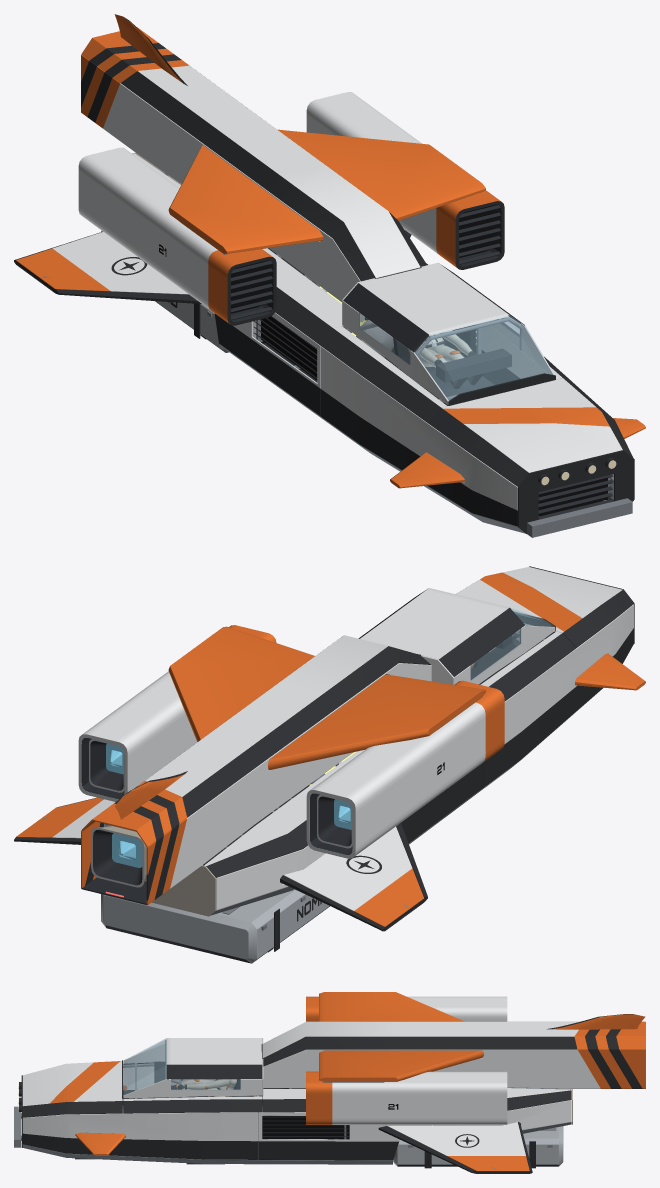
The model's file is nomad.fbx.
3 renders of one model, top to bottom at view 1: azimuth 30°, elevation 25°; view 2: azimuth 150°, elevation 25°; view 3: azimuth 270°, elevation 25°, orthographic. The views are drawn at different scales.
Parts seen in each view (by area): view 1: Boom_Top, Cabin_Top, Pod_Shroud_L, Nose_Top, Side_Front_L, Boom_Side_L, Pod_Arm_R, Pod_Arm_L, Pod_Shroud_R, Stabilizer_Top_L, Radiators, Side_Mid_L (+18 smaller); view 2: Boom_Top, Pod_Shroud_L, Boom_Side_L, Pod_Arm_L, Cargo_Module, Pod_Arm_R, Cabin_Top, Side_Front_L, Pod_Shroud_R, Nose_Top, Stabilizer_Top_L, Deck_Boom_L (+15 smaller); view 3: Boom_Top, Pod_Shroud_R, Side_Front_R, Boom_Side_R, Cabin_Top, Nose_Top, Stabilizer_Top_R, Pod_Arm_R, Side_Mid_R, Pod_Arm_L, Deck_Cabin_R, Pod_Shroud_L (+16 smaller).
Part boxes in pixels (bbox=[...]): Boom_Top: bbox=[81, 27, 426, 281]; Cabin_Top: bbox=[343, 263, 554, 400]; Pod_Shroud_L: bbox=[78, 147, 276, 325]; Nose_Top: bbox=[427, 378, 633, 486]; Side_Front_L: bbox=[321, 346, 517, 526]; Boom_Side_L: bbox=[81, 54, 364, 318]; Pod_Arm_R: bbox=[277, 129, 485, 220]; Pod_Arm_L: bbox=[168, 145, 323, 253]; Pod_Shroud_R: bbox=[306, 92, 504, 269]; Stabilizer_Top_L: bbox=[16, 232, 188, 294]; Radiators: bbox=[254, 316, 612, 519]; Side_Mid_L: bbox=[214, 312, 320, 416]; Boom_Top: bbox=[81, 635, 430, 846]; Pod_Shroud_L: bbox=[306, 680, 504, 858]; Boom_Side_L: bbox=[146, 663, 431, 904]; Pod_Arm_L: bbox=[268, 674, 485, 770]; Cargo_Module: bbox=[101, 811, 329, 963]; Pod_Arm_R: bbox=[168, 626, 314, 741]; Cabin_Top: bbox=[358, 588, 554, 676]; Side_Front_L: bbox=[482, 604, 633, 787]; Pod_Shroud_R: bbox=[78, 625, 276, 801]; Nose_Top: bbox=[456, 567, 633, 647]; Stabilizer_Top_L: bbox=[283, 826, 424, 926]; Deck_Boom_L: bbox=[204, 750, 364, 877]; Boom_Top: bbox=[262, 1021, 645, 1066]; Pod_Shroud_R: bbox=[306, 1071, 507, 1124]; Side_Front_R: bbox=[22, 1112, 257, 1159]; Boom_Side_R: bbox=[263, 1049, 645, 1088]; Cabin_Top: bbox=[123, 1038, 262, 1095]; Nose_Top: bbox=[22, 1061, 122, 1117]; Stabilizer_Top_R: bbox=[387, 1122, 529, 1171]; Pod_Arm_R: bbox=[319, 1050, 483, 1081]; Side_Mid_R: bbox=[258, 1112, 431, 1160]; Pod_Arm_L: bbox=[319, 992, 464, 1021]; Deck_Cabin_R: bbox=[123, 1096, 262, 1113]; Pod_Shroud_L: bbox=[306, 996, 507, 1021].
Bounding box in the file's own units: 330 × 166 × 725.
